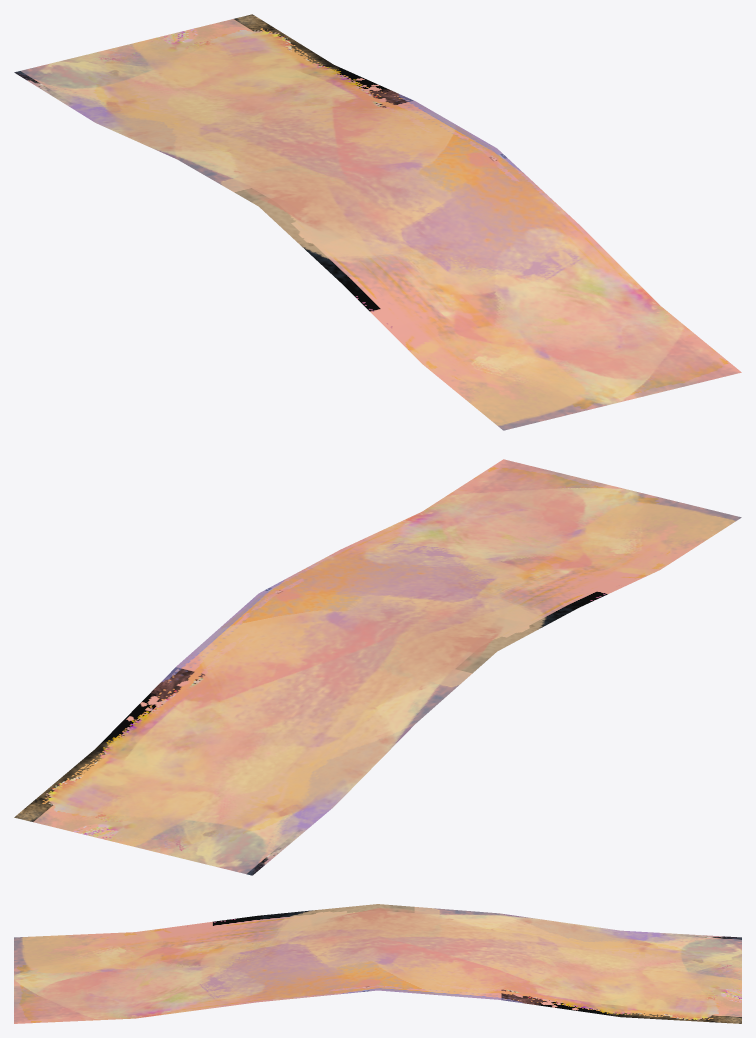
Rendered from S_BrushStroke_OrangeLong.fbx.
The picture shows the model from 3 angles, top to bottom: view 1: azimuth 30°, elevation 25°; view 2: azimuth 150°, elevation 25°; view 3: azimuth 270°, elevation 25°; orthographic projection. The views are drawn at different scales.
Parts seen in each view (by area): view 1: S_BrushStroke_OrangeLong; view 2: S_BrushStroke_OrangeLong; view 3: S_BrushStroke_OrangeLong.
Part boxes in pixels (left/top/right/bottom): S_BrushStroke_OrangeLong: left=14, top=14, right=741, bottom=430; S_BrushStroke_OrangeLong: left=14, top=459, right=741, bottom=875; S_BrushStroke_OrangeLong: left=14, top=904, right=741, bottom=1023.
Size of the model in its own units: 0.8508 by 0.1534 by 3.02.
